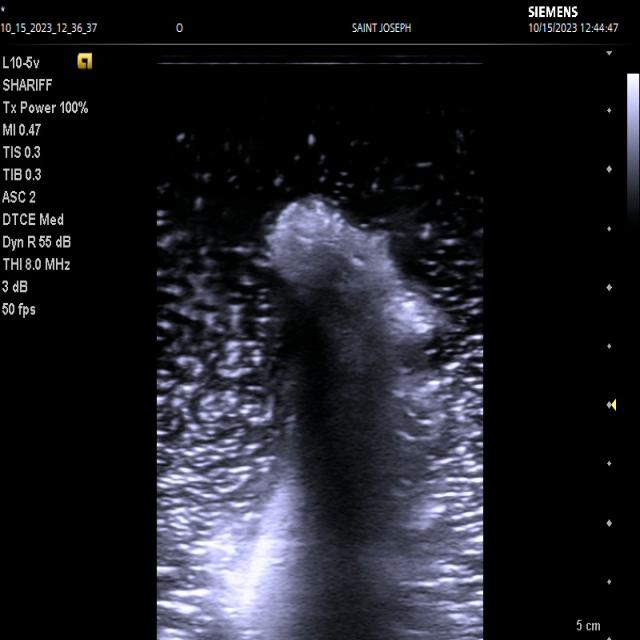tissue: (238, 195, 427, 640)
